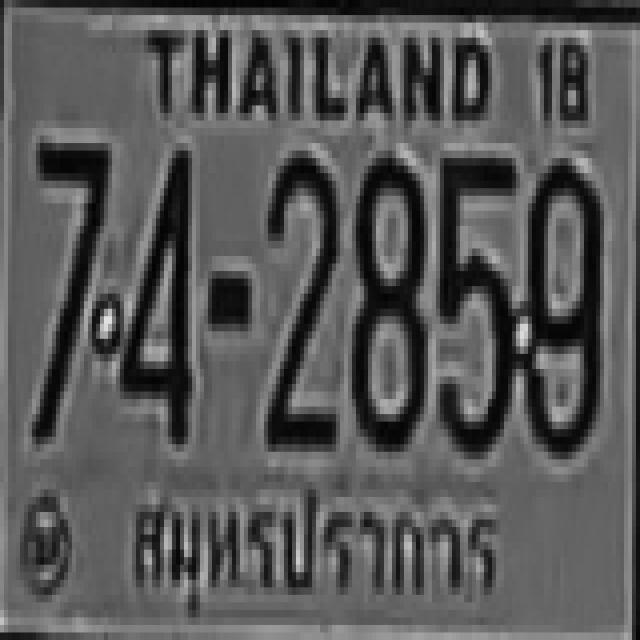2: (264, 147, 336, 448)
4: (116, 143, 188, 437)
5: (436, 150, 516, 452)
7: (30, 136, 106, 437)
8: (348, 151, 424, 444)
9: (520, 150, 600, 452)
SamutPrakan: (128, 472, 506, 623)
